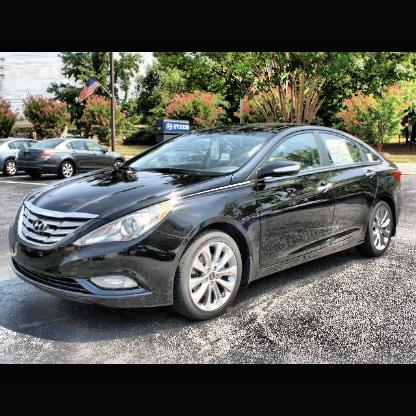Hyundai Sonata Sedan 2012: (10, 118, 411, 329)
